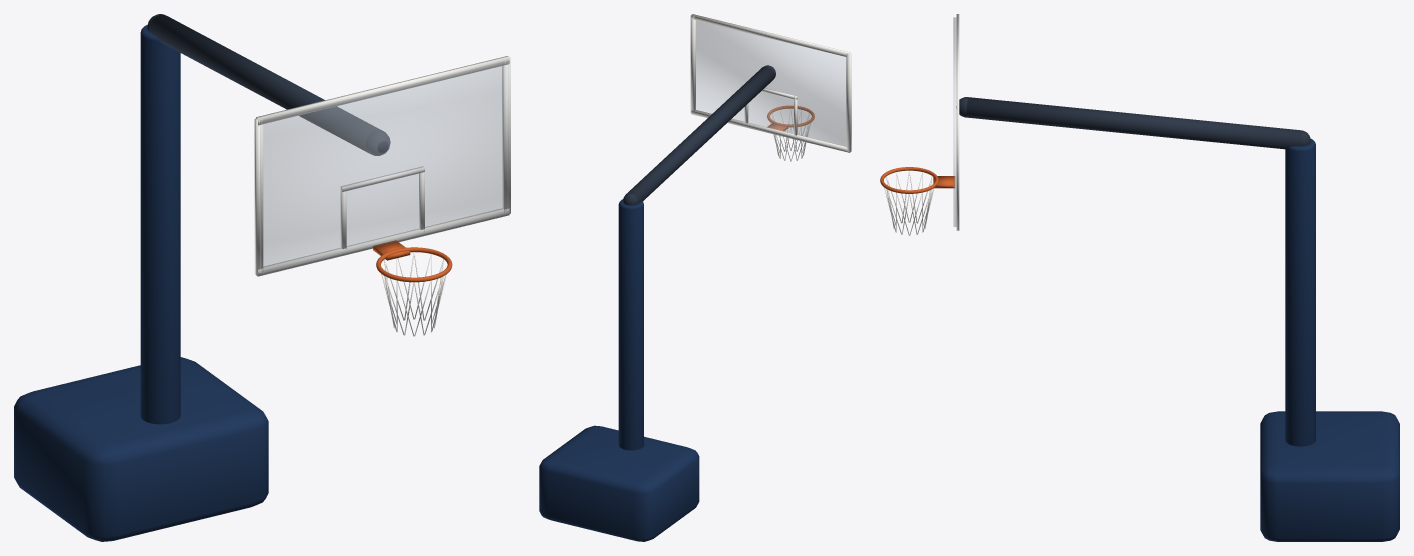
Rendered from hoop.glb.
3 renders of one model, left to right at view 1: azimuth 30°, elevation 25°; view 2: azimuth 150°, elevation 25°; view 3: azimuth 270°, elevation 25°, orthographic. The views are drawn at different scales.
Visible parts, largest first — view 1: Hoop; view 2: Hoop; view 3: Hoop.
Part boxes in pixels (<box>): Hoop: <box>14,14,510,541</box>; Hoop: <box>539,14,851,541</box>; Hoop: <box>880,14,1399,541</box>.
Bounding box in the file's own units: 6.16 × 13.58 × 14.15.
